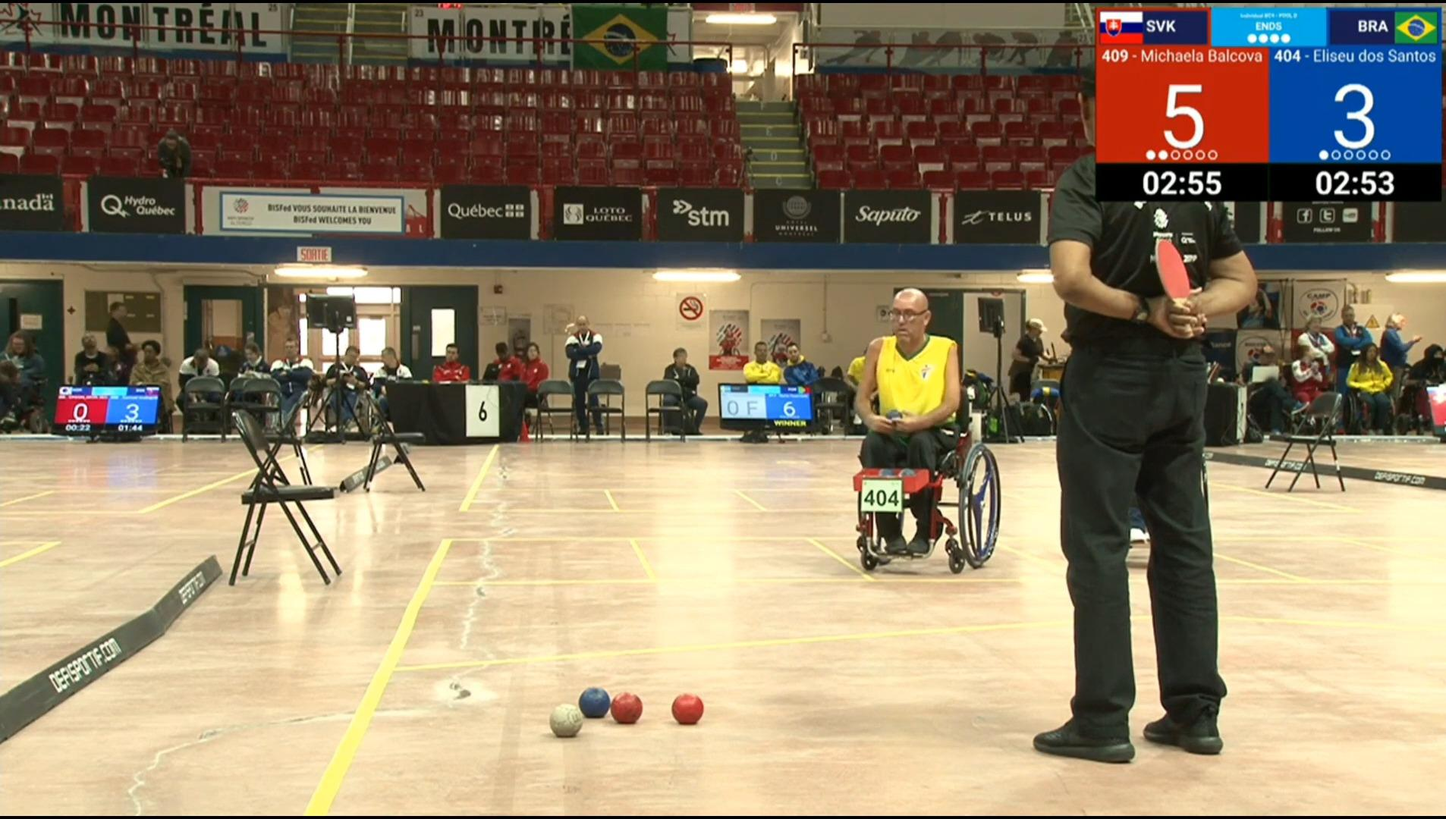blue_ball: (577, 685, 611, 719)
red_ball: (609, 690, 645, 726), (670, 692, 705, 727)
white_ball: (546, 702, 583, 738)
